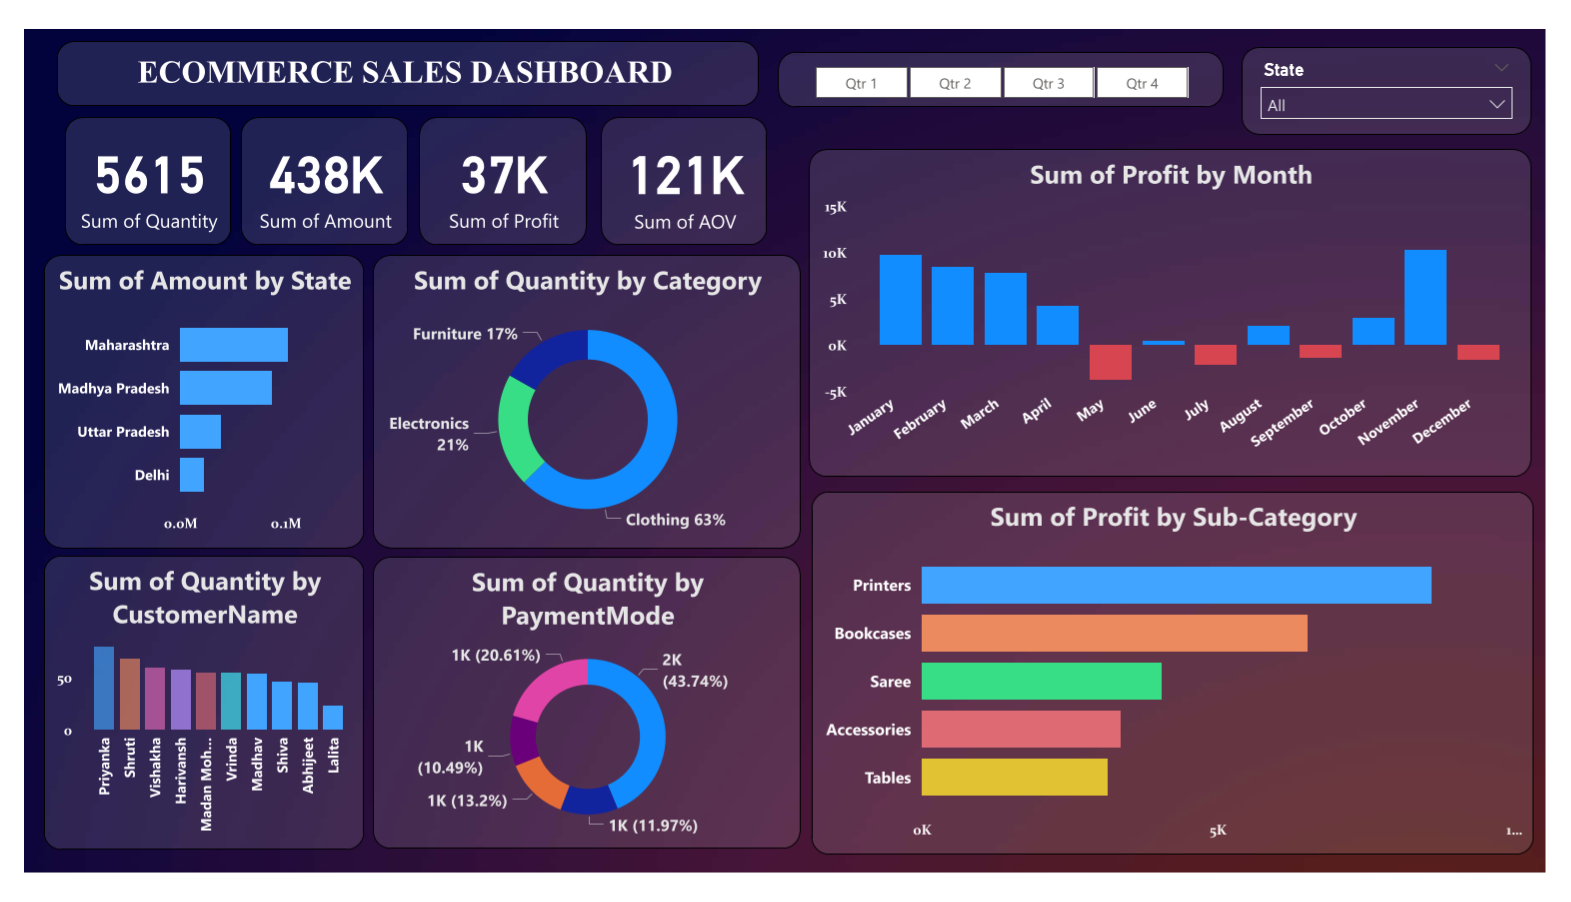

The dashboard page shown, as its layout file describes it:
{"tool":"powerbi","page":{"name":"Page 1","canvas":[1280,720],"ordinal":0},"visuals":[{"type":"textbox","box":[26.7,13.3,591.7,55],"z":0},{"type":"columnChart","fields":{"Y":["Details.Profit"],"Category":["Orders.Order Date.Variation.Date Hierarchy.Month"]},"box":[660,103.6,608.2,276.4],"z":1000},{"type":"barChart","fields":{"Category":["Details.Sub-Category"],"Y":["Details.Profit"]},"box":[661.7,391.7,608.3,306.7],"z":2000},{"type":"donutChart","fields":{"Category":["Details.Category"],"Y":["Details.Quantity"]},"box":[292.7,192.7,360,247.3],"z":3000},{"type":"donutChart","fields":{"Y":["Details.Quantity"],"Series":["Details.PaymentMode"]},"box":[292.7,447.3,360,245.5],"z":4000},{"type":"card","fields":{"Values":["Details.Quantity"]},"box":[33.6,77.3,140,107.3],"z":5000},{"type":"card","fields":{"Values":["Details.Amount"]},"box":[181.8,77.3,140.9,107.3],"z":6000},{"type":"card","fields":{"Values":["Details.Profit"]},"box":[331.8,77.3,140.9,107.3],"z":7000},{"type":"card","fields":{"Values":["Details.AOV"]},"box":[484.5,77.3,140.9,107.3],"z":8000},{"type":"barChart","fields":{"Category":["Orders.State"],"Y":["Details.Amount"]},"box":[16.4,192.7,270,247.3],"z":9000},{"type":"columnChart","fields":{"Category":["Orders.CustomerName"],"Y":["Details.Quantity"]},"box":[16.4,446.4,270,247.3],"z":10000},{"type":"slicer","fields":{"Values":["Orders.Order Date.Variation.Date Hierarchy.Quarter"]},"box":[633.6,21.8,375.5,47.3],"z":11000},{"type":"slicer","fields":{"Values":["Orders.State"]},"box":[1023.6,18.2,244.5,73.6],"z":11001}]}

Visuals, with their boxes in screenshot pixels (x1, y1, x2, y2), scaled from the page's 1280x720 canvas onto the 1571x902 screenshot:
textbox: [33,17,759,86]
columnChart - Details.Profit x Orders.Order Date.Variation.Date Hierarchy.Month: [810,130,1557,476]
barChart - Details.Sub-Category x Details.Profit: [812,491,1559,875]
donutChart - Details.Category x Details.Quantity: [359,241,801,551]
donutChart - Details.Quantity x Details.PaymentMode: [359,560,801,868]
card - Details.Quantity: [41,97,213,231]
card - Details.Amount: [223,97,396,231]
card - Details.Profit: [407,97,580,231]
card - Details.AOV: [595,97,768,231]
barChart - Orders.State x Details.Amount: [20,241,352,551]
columnChart - Orders.CustomerName x Details.Quantity: [20,559,352,869]
slicer - Orders.Order Date.Variation.Date Hierarchy.Quarter: [778,27,1239,87]
slicer - Orders.State: [1256,23,1556,115]
